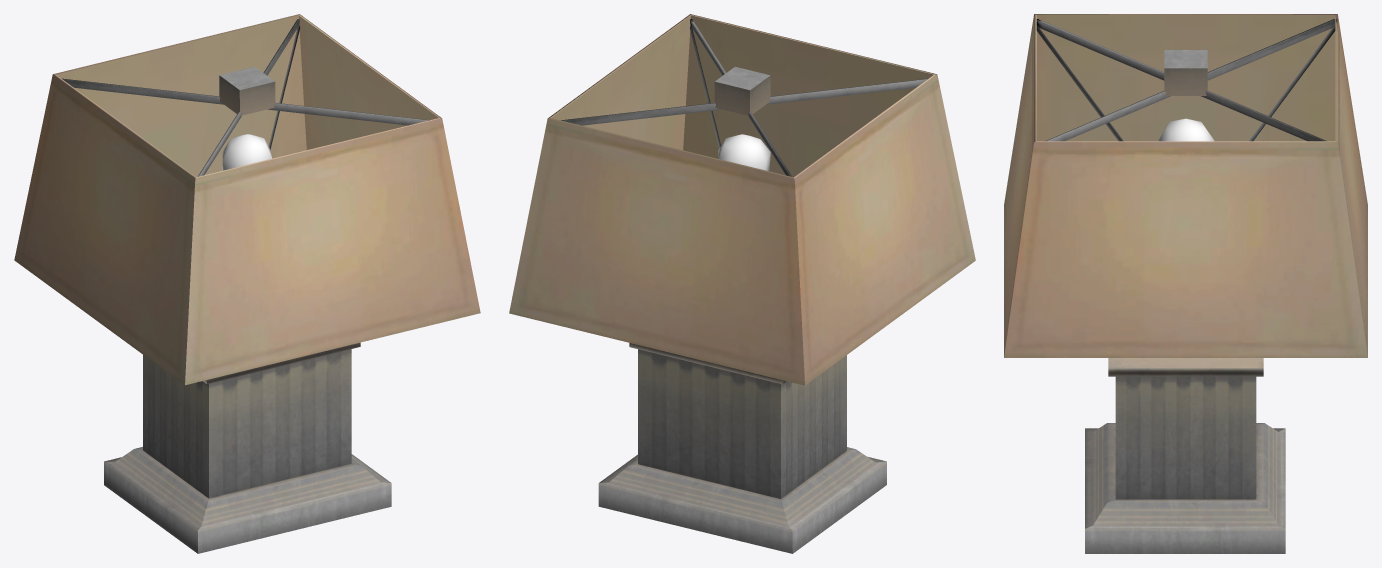
The model's file is furniture_lamp_table2_1_lod0.glb.
3 renders of one model, left to right at view 1: azimuth 30°, elevation 25°; view 2: azimuth 150°, elevation 25°; view 3: azimuth 270°, elevation 25°, orthographic. The views are drawn at different scales.
Visible parts, largest first — view 1: surf0; view 2: surf0; view 3: surf0.
Part boxes in pixels (x1=…): surf0: x1=14, y1=14, x2=480, y2=553; surf0: x1=509, y1=14, x2=975, y2=553; surf0: x1=1004, y1=14, x2=1367, y2=553.
Size of the model in its own units: 16.32 by 22 by 16.32.
